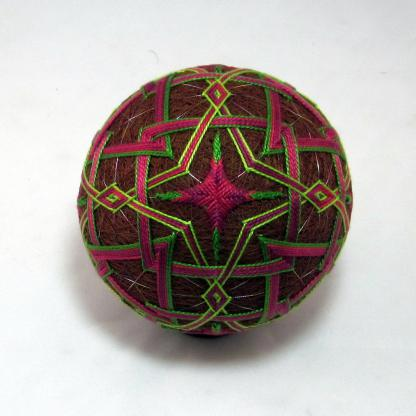Ball: (76, 62, 353, 338)
